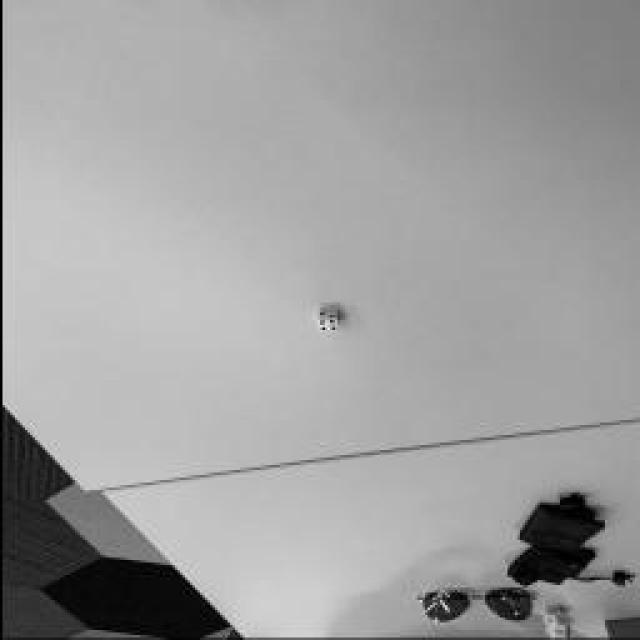dice_4: (315, 320, 335, 332)
